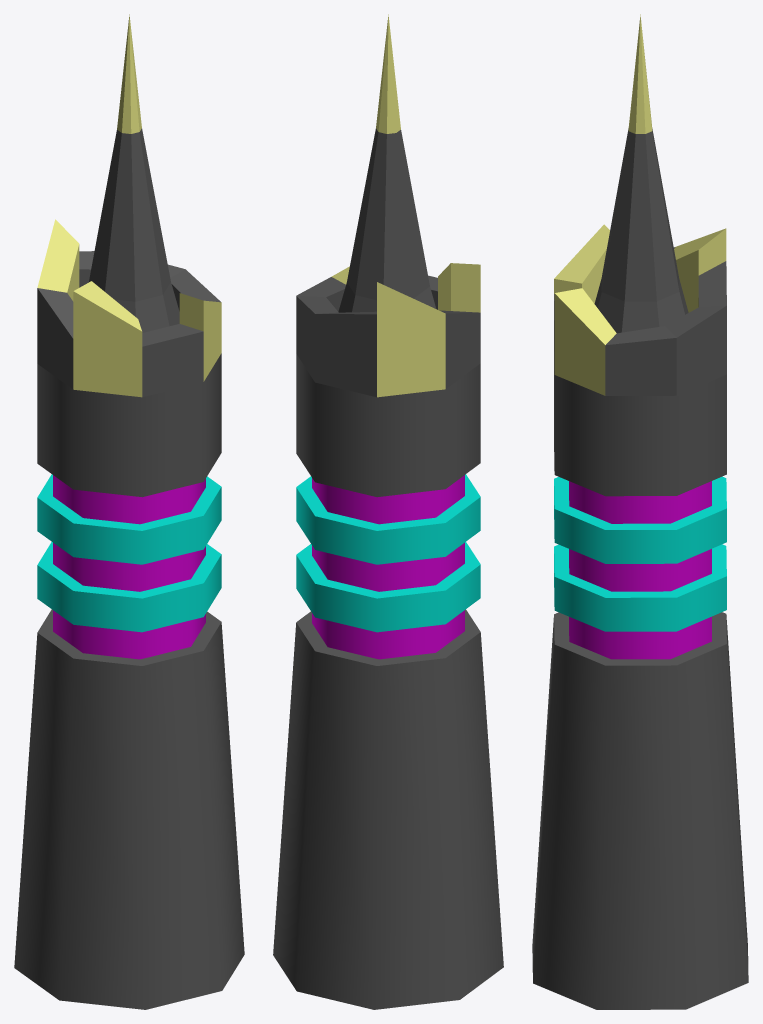
The model's file is building_2.fbx.
3 views of the same model, side by side, from view 1: azimuth 30°, elevation 25°; view 2: azimuth 150°, elevation 25°; view 3: azimuth 270°, elevation 25° (orthographic).
Parts seen in each view (by area): view 1: scifi_building_03; view 2: scifi_building_03; view 3: scifi_building_03.
Boxes of the visible parts, x1=… form: scifi_building_03: x1=14, y1=14, x2=244, y2=1009; scifi_building_03: x1=273, y1=14, x2=503, y2=1009; scifi_building_03: x1=532, y1=14, x2=748, y2=1009.
Size of the model in its own units: 12.06 by 58.47 by 12.06.
